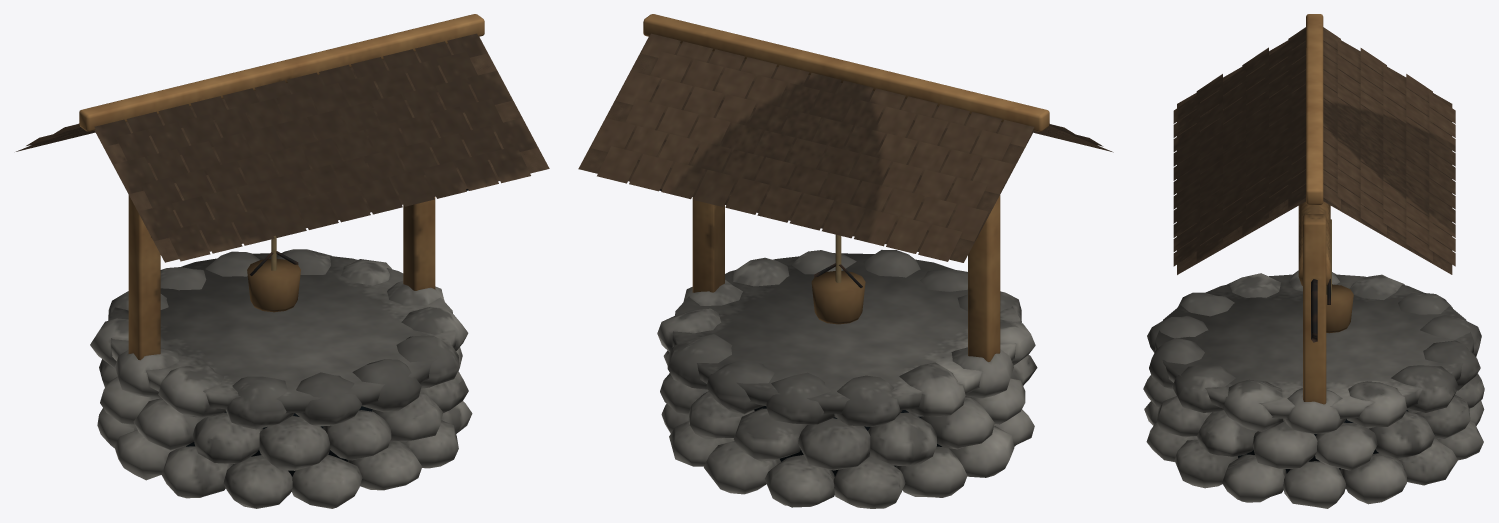
File: well.obj
3 views of the same model, side by side, from view 1: azimuth 30°, elevation 25°; view 2: azimuth 150°, elevation 25°; view 3: azimuth 270°, elevation 25° (orthographic). The views are drawn at different scales.
Visible parts, largest first — view 1: part0, part4, part1; view 2: part0, part4, part1; view 3: part0, part4, part1, part2.
Part boxes in pixels (x1,y1,x2,y2): part0: (90,249,472,508); part4: (16,33,549,262); part1: (79,14,484,360); part0: (657,250,1037,508); part4: (578,33,1113,262); part1: (643,14,1049,361); part0: (1143,270,1484,508); part4: (1173,27,1455,274); part1: (1298,14,1353,404); part2: (1311,278,1330,342).
Bounding box in the file's own units: 2.9 × 2.64 × 2.36.
